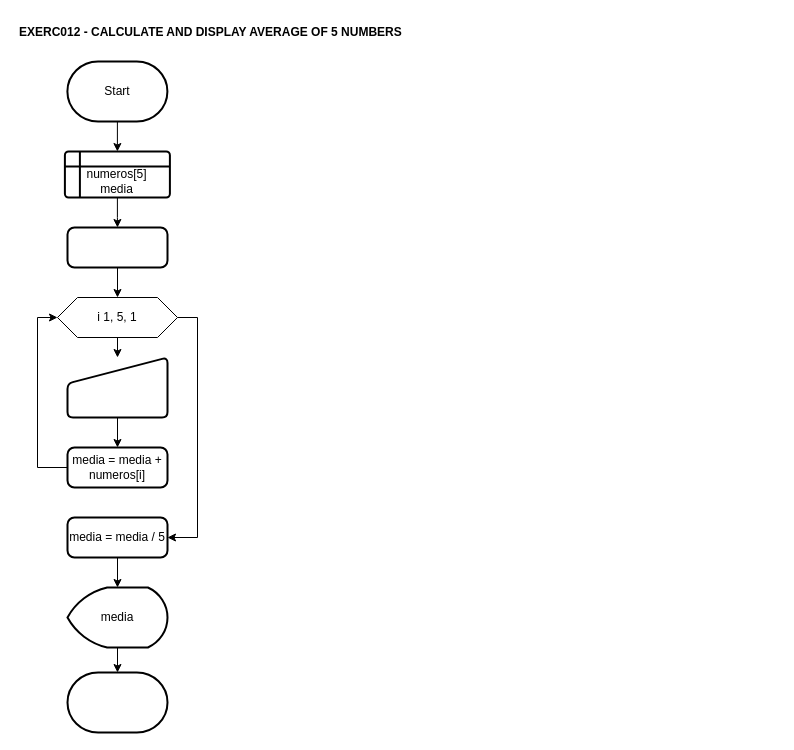
The diagram is 794 pixels wide and 750 high, and some of its shapes have lost their labels. The shapes that lost their labels are listed below. From the top down, each one's centre as x and y in pixels, then its label:
the point at 117,247: media = 0
the point at 117,387: numeros[i]
the point at 117,702: Stop
